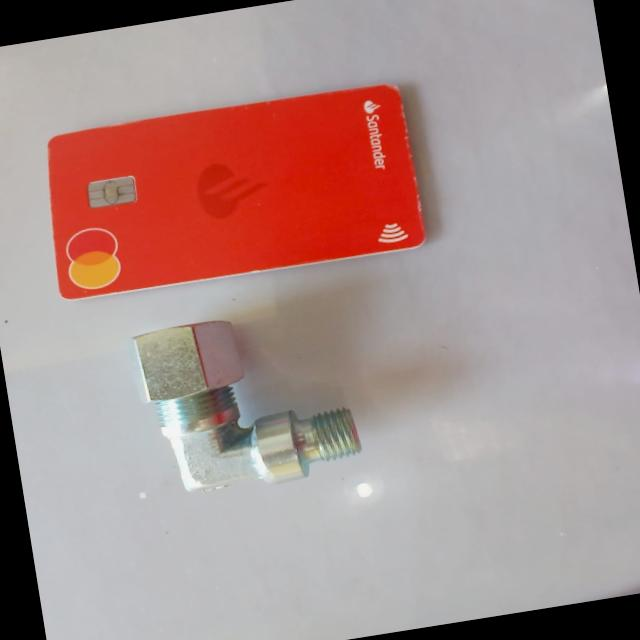cartao: (36, 80, 427, 302)
rosca_externa: (134, 301, 368, 502)
